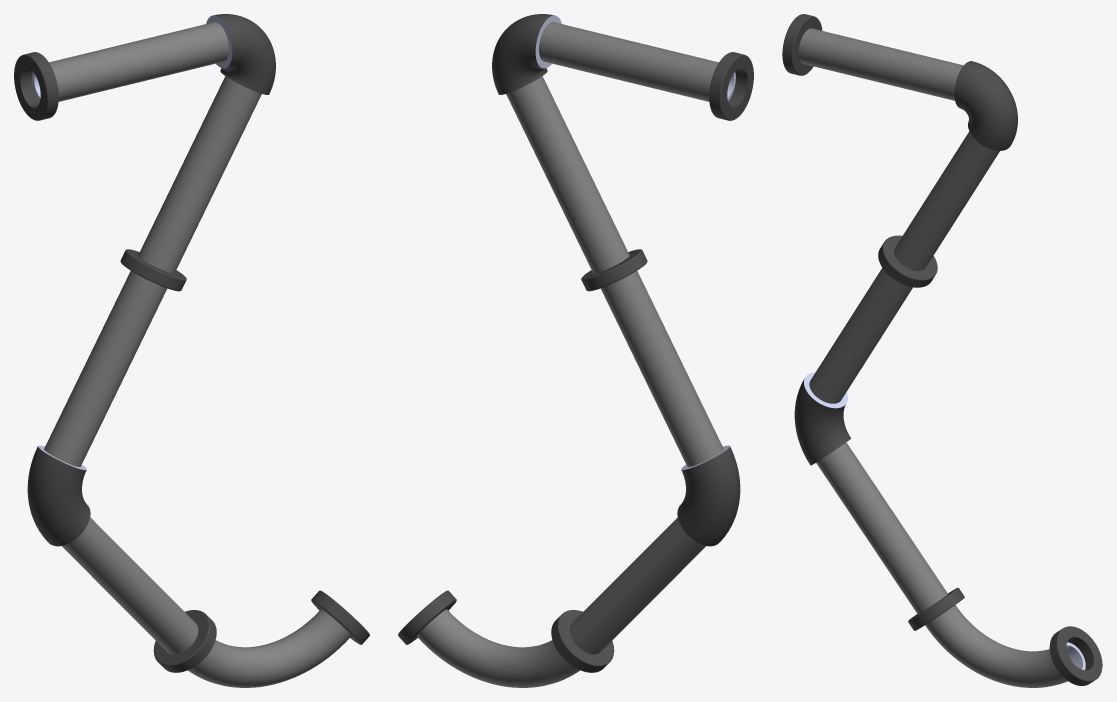
The model's file is pipe2_var3.glb.
3 views of the same model, side by side, from view 1: azimuth 30°, elevation 25°; view 2: azimuth 150°, elevation 25°; view 3: azimuth 330°, elevation 25° (orthographic). The views are drawn at different scales.
Parts seen in each view (by area): view 1: Part 2, Part 3, Part; view 2: Part 2, Part 3, Part; view 3: Part 2, Part 3, Part.
Boxes of the visible parts, box(x1,y1,x2,y2) form: Part 2: box(44, 22, 351, 687); Part 3: box(14, 14, 369, 672); Part: box(32, 15, 232, 470); Part 2: box(417, 22, 723, 687); Part 3: box(398, 14, 753, 672); Part: box(535, 15, 735, 470); Part 2: box(798, 28, 1067, 687); Part 3: box(782, 14, 1102, 685); Part: box(804, 372, 1085, 669).
Bounding box in the file's own units: 2.83 × 5.56 × 0.5.
